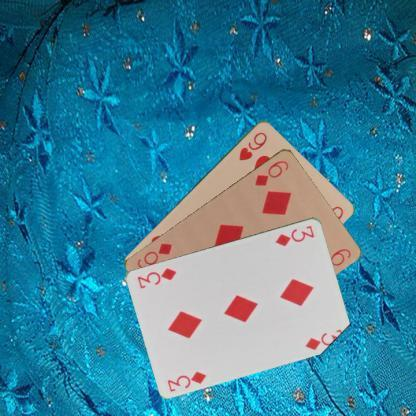3d: (165, 368, 209, 393), (272, 223, 316, 247)
6d: (252, 157, 290, 188)
9h: (235, 129, 268, 162)
